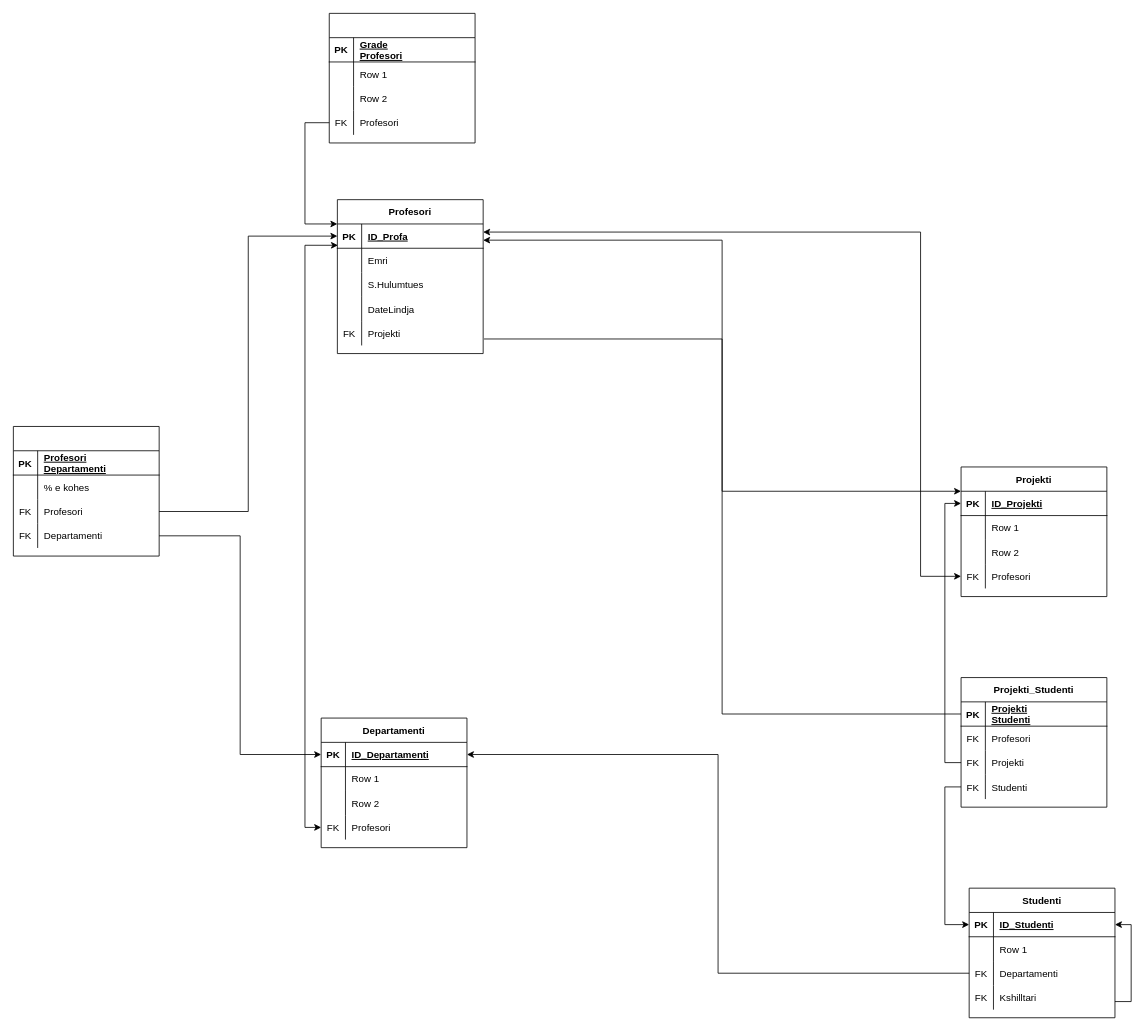
This 1145x1031 diagram has some shape labels left out. Here are the shapes that lost their labels. From the top down, the box of each, then its label:
(328, 13, 475, 143): Grades
(13, 426, 159, 556): Punon
